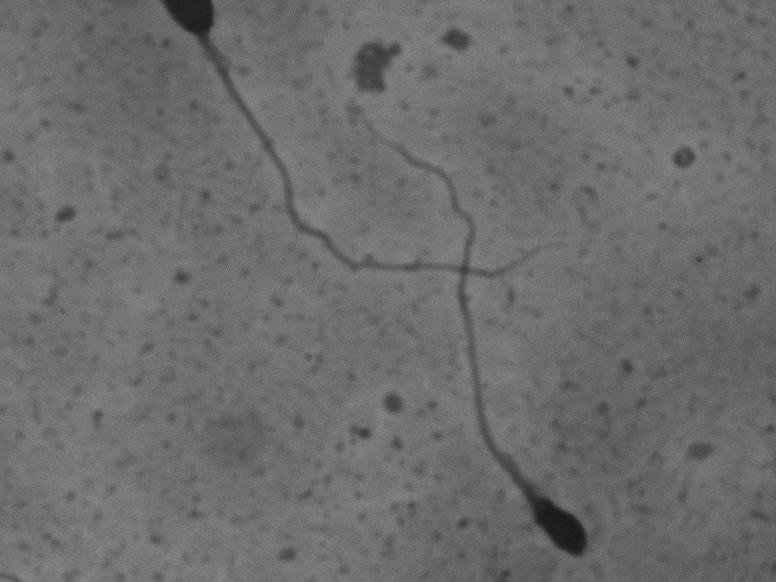Abnormal: (336, 84, 608, 562)
